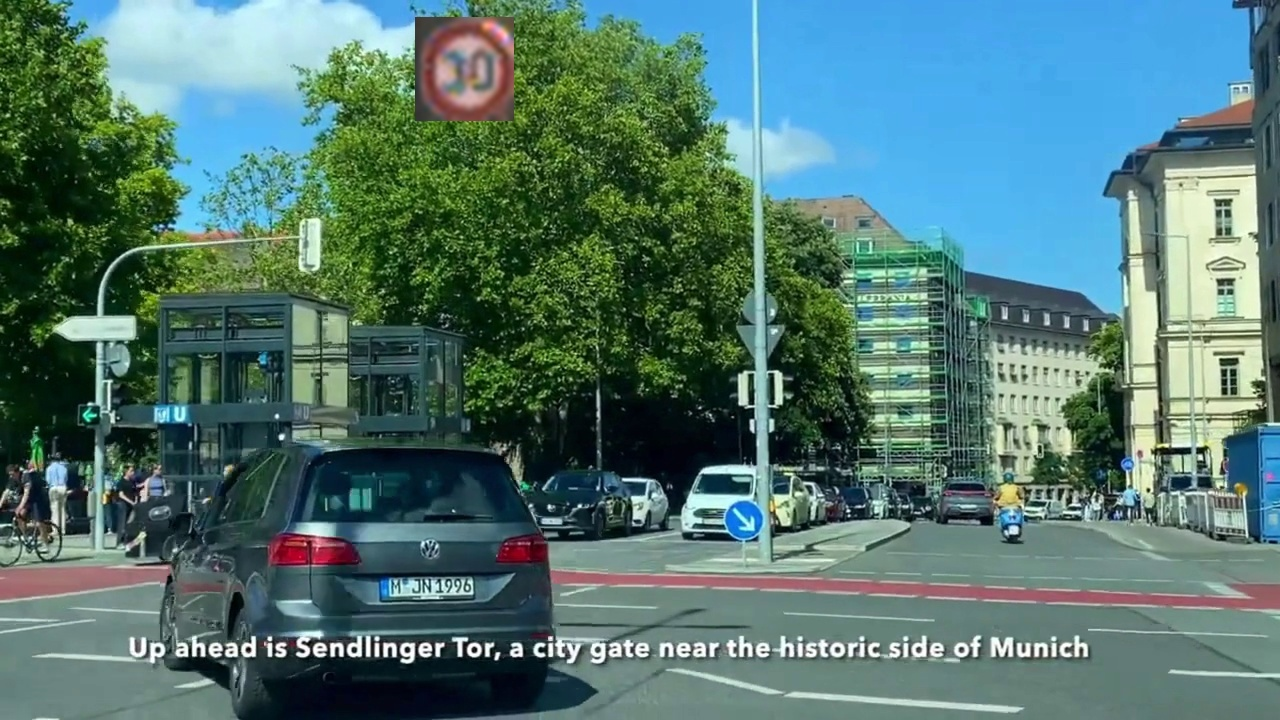Speed 30: (415, 17, 514, 121)
